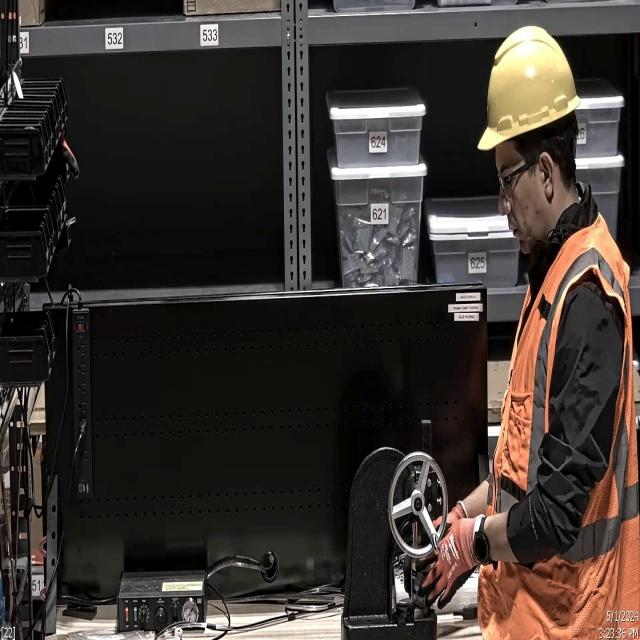construction-gloves: (414, 512, 480, 609)
